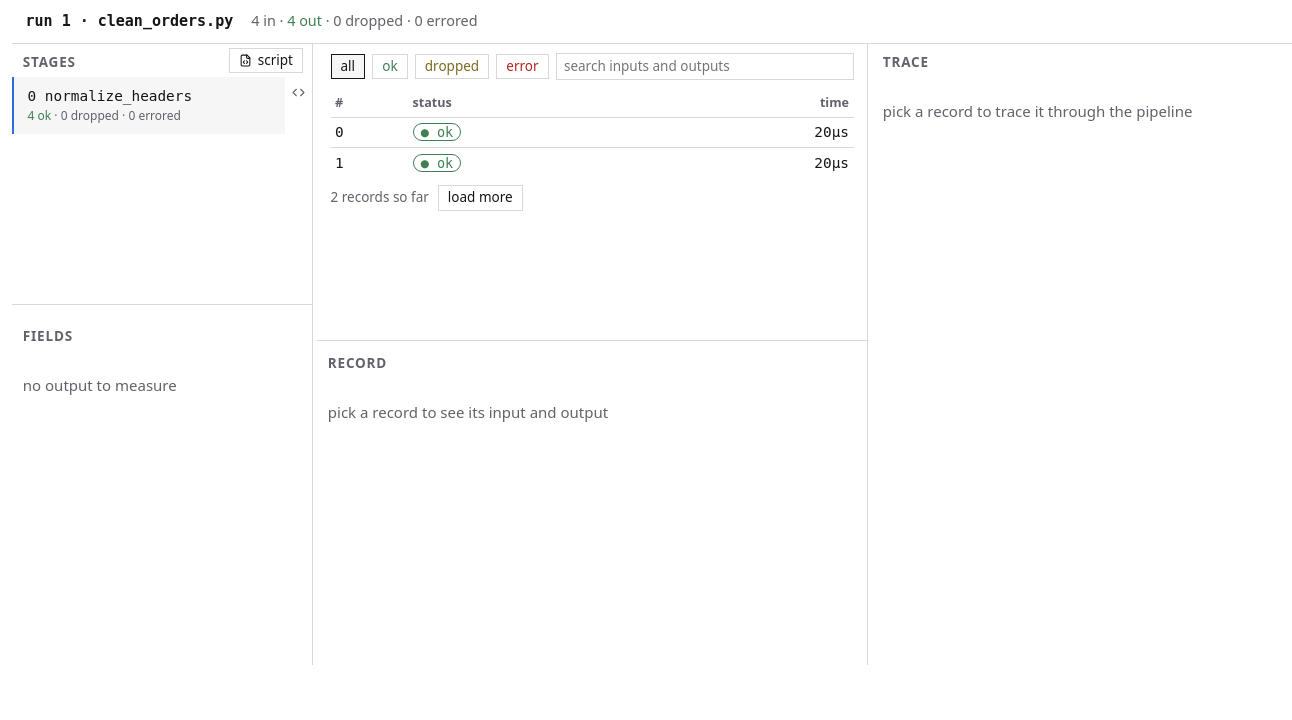
Test: a further page is fetched with the cursor and appended
Expected: the text "0" is shown, [330, 117, 408, 148]
Expected: the text "2 records so far" is shown, [330, 188, 429, 208]
Click the button "load more" at (480, 198), box [438, 186, 523, 211]
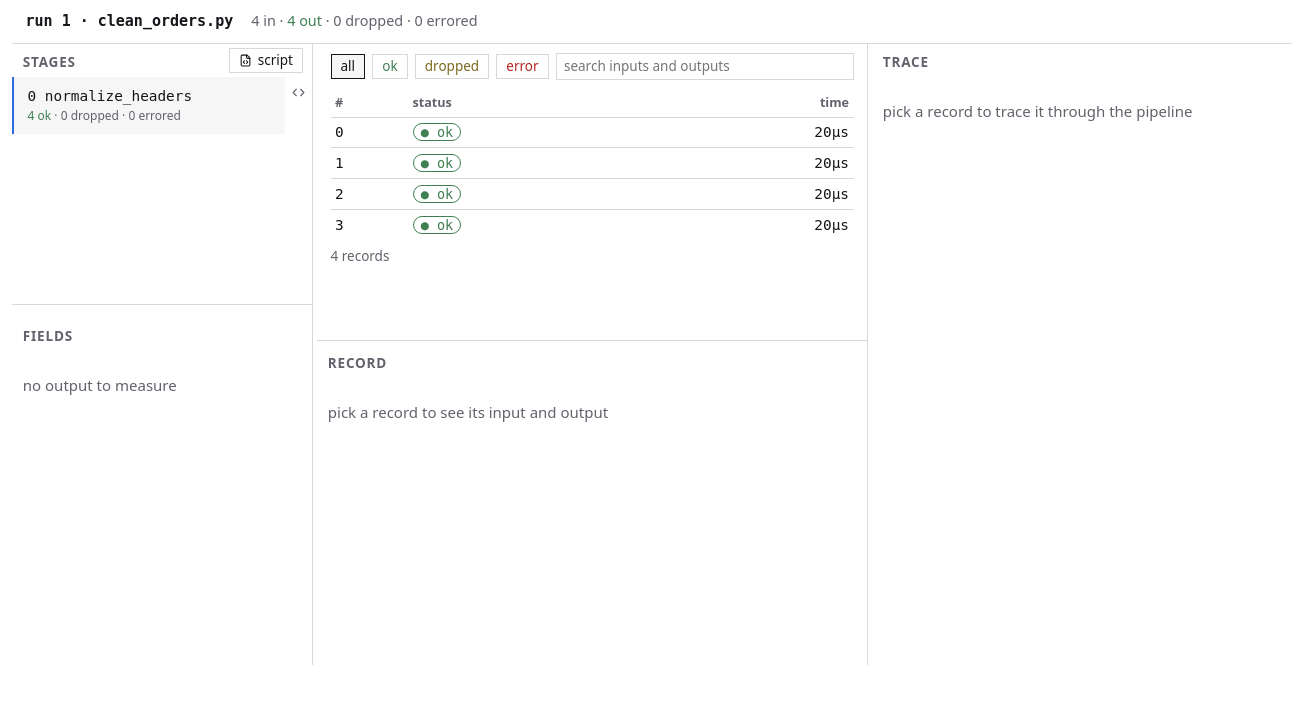
Expected: the text "0" is shown, [330, 117, 408, 148]
Expected: the text "3" is shown, [330, 210, 408, 240]
